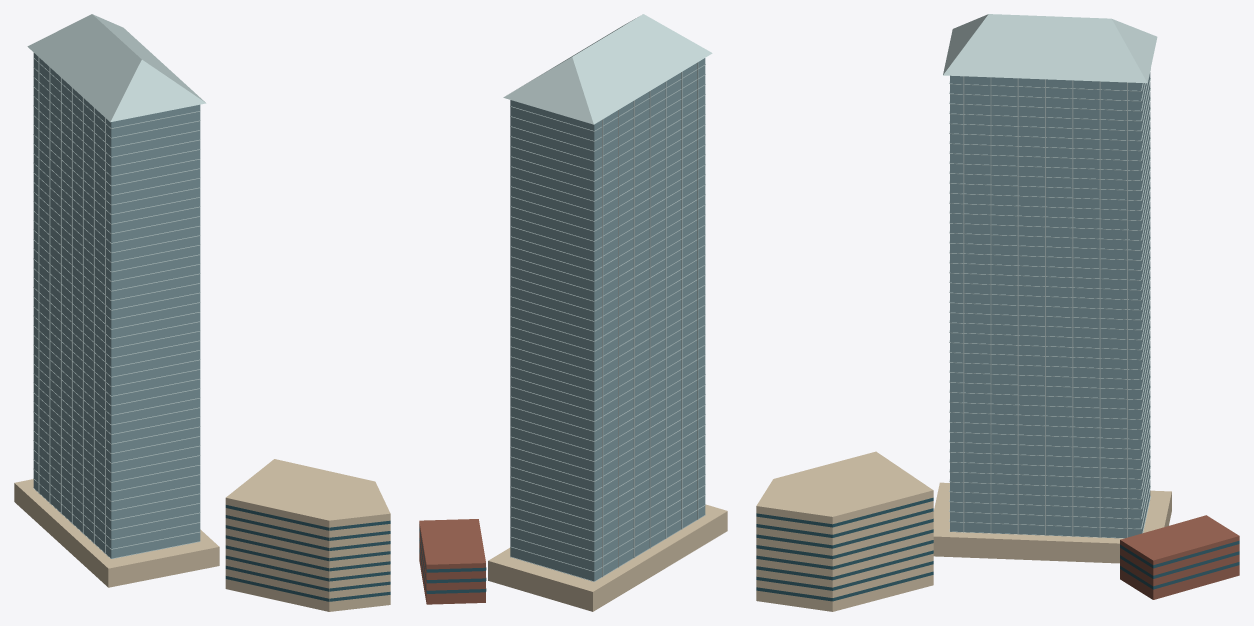
The model's file is city_5_-1.glb.
3 renders of one model, left to right at view 1: azimuth 30°, elevation 25°; view 2: azimuth 150°, elevation 25°; view 3: azimuth 270°, elevation 25°, orthographic. The views are drawn at different scales.
Visible parts, largest first — view 1: city_5_-1; view 2: city_5_-1; view 3: city_5_-1.
Boxes of the visible parts, left/top/right/bottom form: city_5_-1: left=14, top=14, right=390, bottom=611; city_5_-1: left=419, top=14, right=727, bottom=611; city_5_-1: left=756, top=14, right=1239, bottom=611.
Bounding box in the file's own units: 88.92 × 196 × 166.
